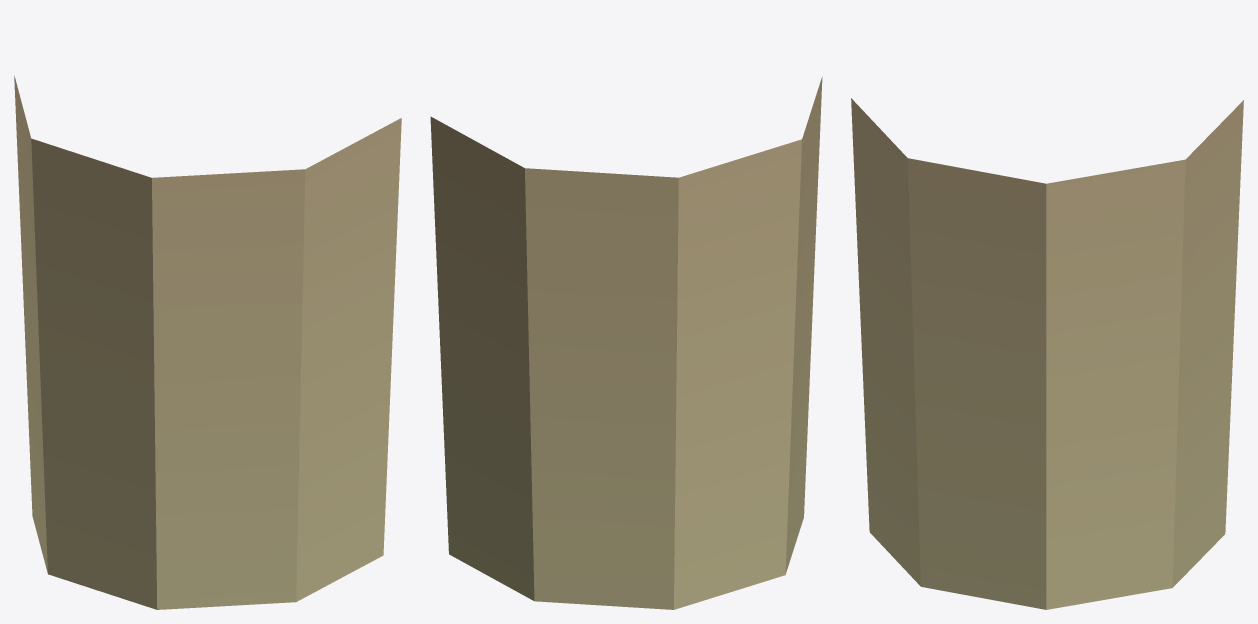
File: LanternLitUp_0.glb
The picture shows the model from 3 angles, left to right: view 1: azimuth 30°, elevation 25°; view 2: azimuth 150°, elevation 25°; view 3: azimuth 270°, elevation 25°; orthographic projection.
Visible parts, largest first — view 1: LanternLitUp; view 2: LanternLitUp; view 3: LanternLitUp.
Part boxes in pixels (left/top/right/bottom): LanternLitUp: left=14, top=75, right=401, bottom=609; LanternLitUp: left=430, top=76, right=822, bottom=609; LanternLitUp: left=851, top=98, right=1243, bottom=609.
Bounding box in the file's own units: 0.2133 × 0.2545 × 0.2086.
